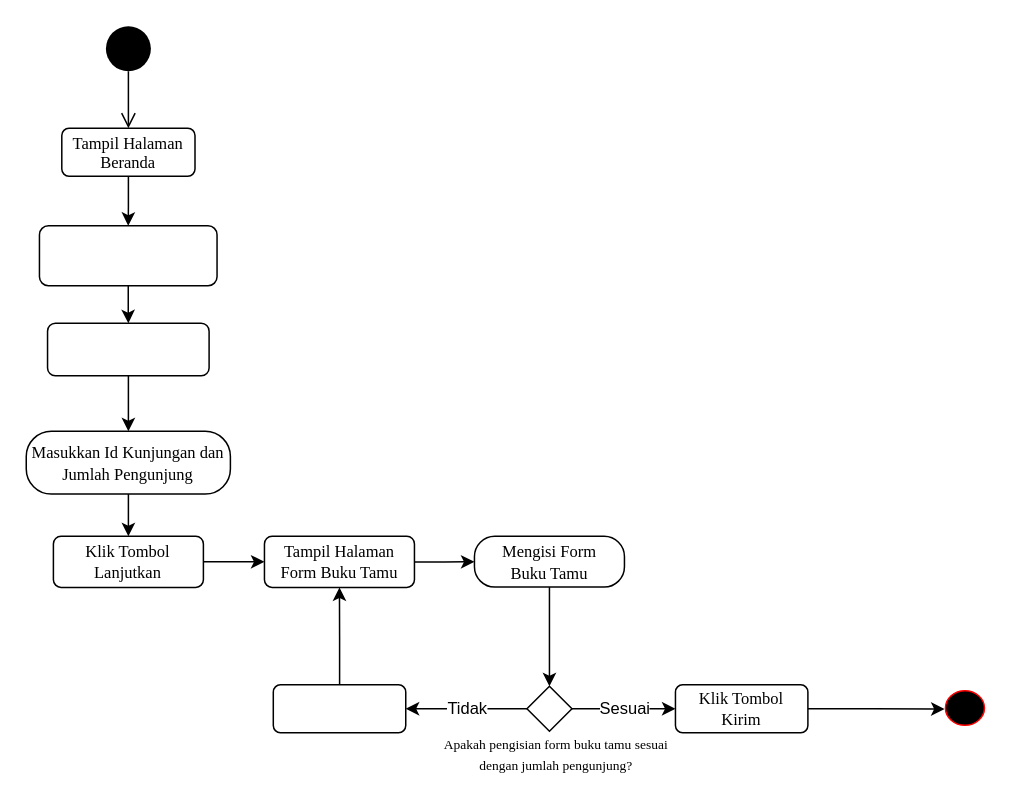
The diagram is 1017 pixels wide and 801 high, and some of its shapes have lost their labels. The shapes that lost their labels are listed below. From the top down, each one's centre as x and y in pixels, then its label:
At [127,255]: "Pilih Buku Tamu di Menu Jelajah".
At [127,349]: "Tampil Halaman Buku Tamu".
At [339,708]: "Klik Tombol Selanjutnya".
